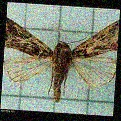Spodoptera litura: (4, 15, 117, 103)
